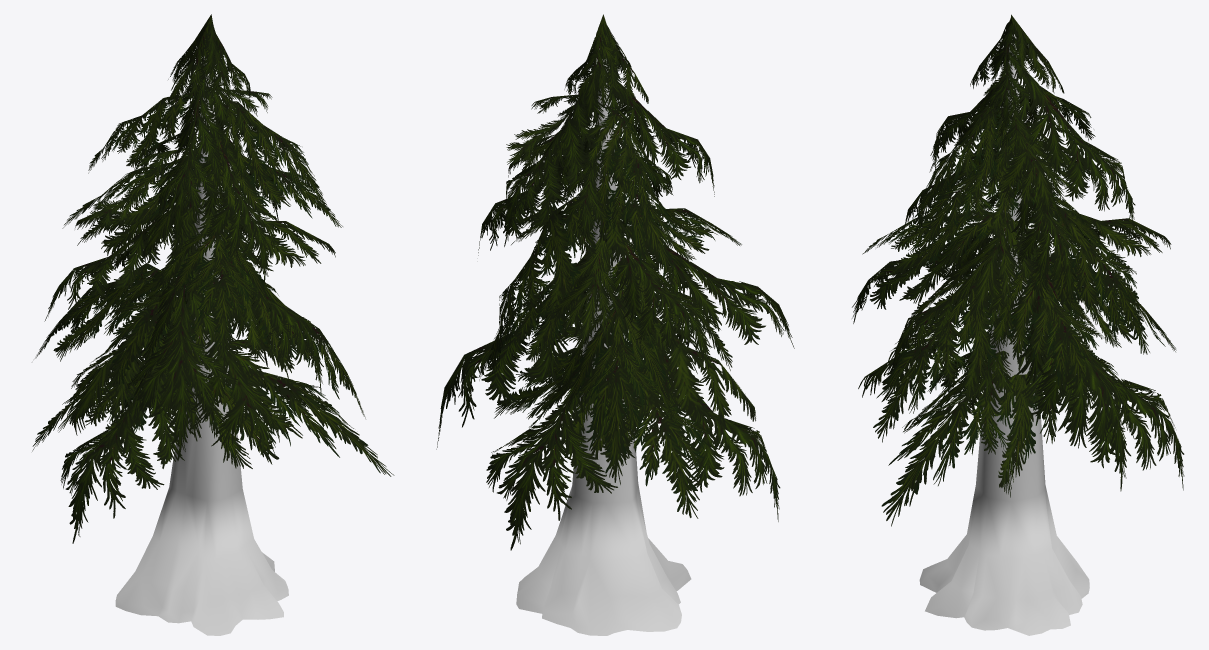
The model's file is spruce_02.fbx.
3 views of the same model, side by side, from view 1: azimuth 30°, elevation 25°; view 2: azimuth 150°, elevation 25°; view 3: azimuth 270°, elevation 25° (orthographic).
Visible parts, largest first — view 1: Spruce_2_LOD0; view 2: Spruce_2_LOD0; view 3: Spruce_2_LOD0.
Boxes of the visible parts, x1,y1,x2,y2 form: Spruce_2_LOD0: (32, 14, 394, 635); Spruce_2_LOD0: (436, 14, 794, 635); Spruce_2_LOD0: (852, 14, 1184, 635).
Size of what is drawn, in the model's own units: 3.6 by 6.13 by 3.41.
